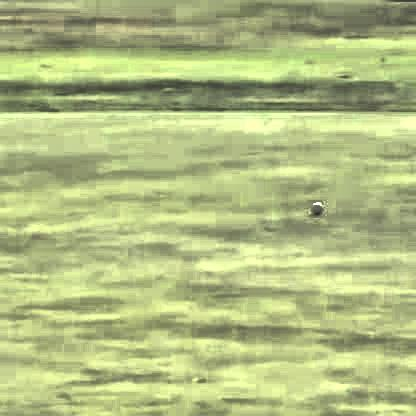golfball: (309, 195, 319, 211)
